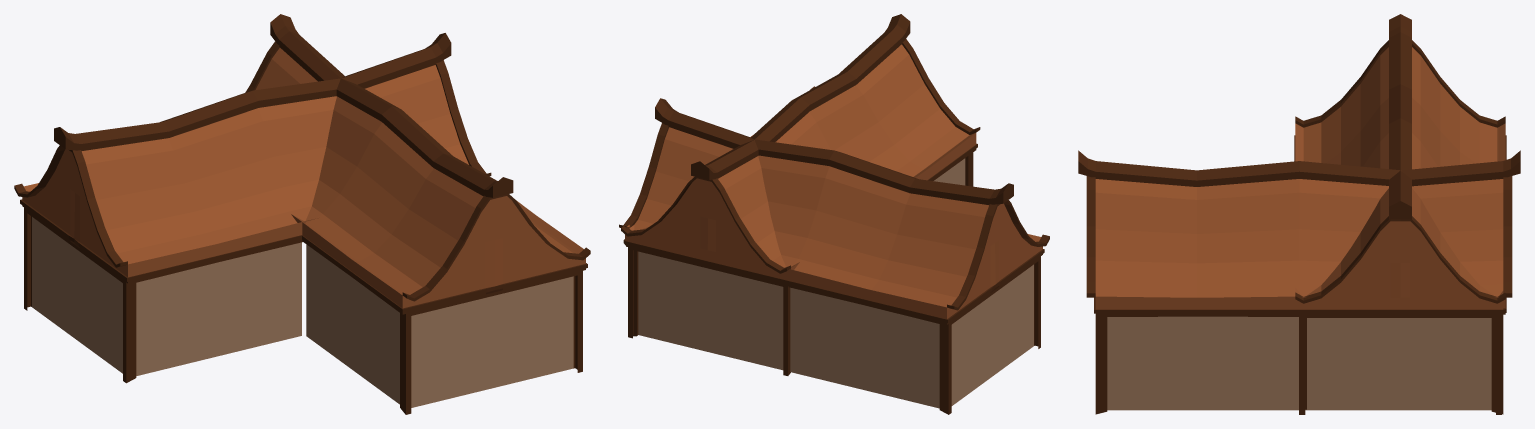
File: obj_chinese_house_hook.fbx
3 renders of one model, left to right at view 1: azimuth 30°, elevation 25°; view 2: azimuth 150°, elevation 25°; view 3: azimuth 270°, elevation 25°, orthographic. The views are drawn at different scales.
Parts seen in each view (by area): view 1: ChineseOderJapaneseHouse2; view 2: ChineseOderJapaneseHouse2; view 3: ChineseOderJapaneseHouse2.
Part boxes in pixels (x1,y1,x2,y2): ChineseOderJapaneseHouse2: (14, 14, 590, 414); ChineseOderJapaneseHouse2: (619, 14, 1049, 414); ChineseOderJapaneseHouse2: (1078, 14, 1520, 414).
Bounding box in the file's own units: 37.51 × 20.71 × 37.51.
